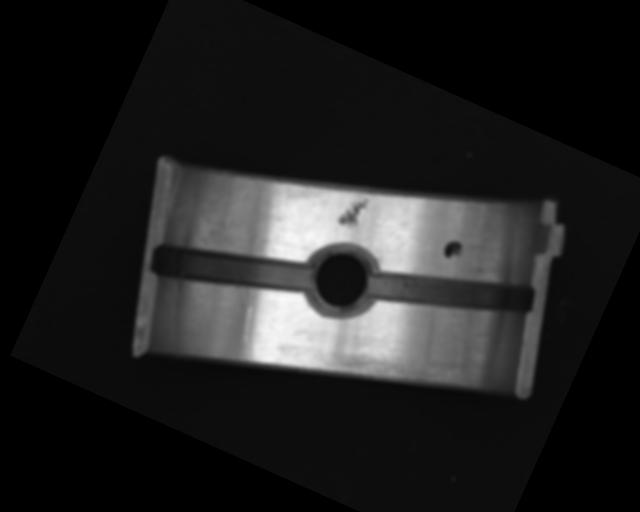blot: (440, 236, 465, 262)
bruise: (335, 190, 371, 232)
gap: (364, 226, 540, 360), (147, 207, 315, 332)
hole: (294, 238, 387, 328)
nick: (228, 307, 272, 365)
scratch: (317, 311, 473, 427)
